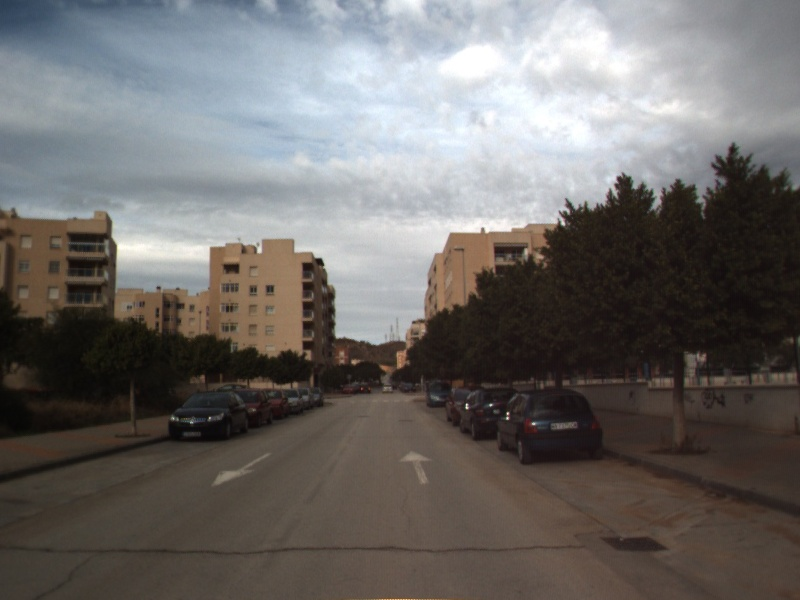STRAIGHT: (396, 448, 435, 487)
